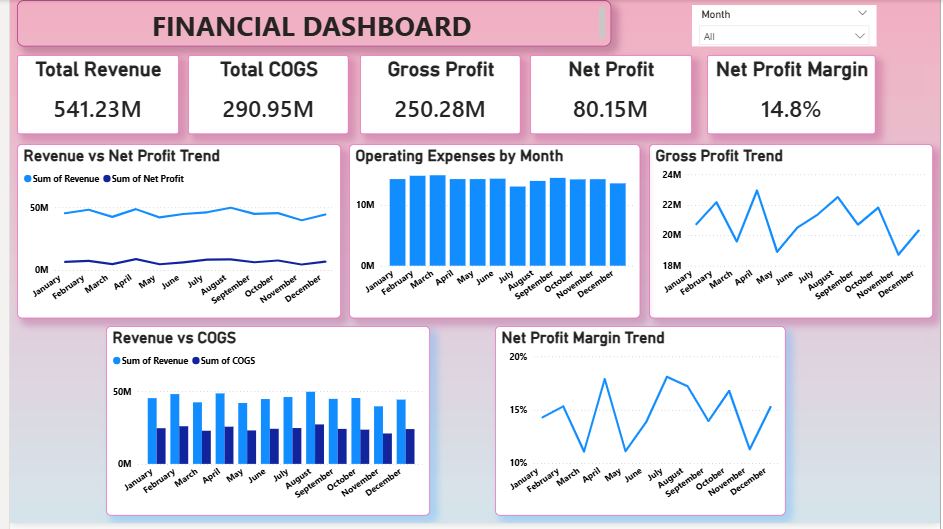

The page's visual inventory and layout, read from the dashboard file:
{"tool":"powerbi","page":{"name":"Page 1","canvas":[1280,720],"ordinal":0},"visuals":[{"type":"textbox","box":[9.9,0,817.8,63.8],"z":0},{"type":"cardVisual","title":"Total Revenue","fields":{"Data":["Sum(Financial Data.Revenue)"]},"box":[9.9,75.1,222.5,109.1],"z":1000},{"type":"cardVisual","title":"Total COGS","fields":{"Data":["Sum(Financial Data.COGS)"]},"box":[245.2,75.1,221.1,109.1],"z":2000},{"type":"cardVisual","title":"Gross Profit","fields":{"Data":["Sum(Financial Data.Gross Profit)"]},"box":[481.9,75.1,221.1,109.1],"z":3000},{"type":"cardVisual","title":"Net Profit","fields":{"Data":["Sum(Financial Data.Net Profit)"]},"box":[715.7,75.1,222.5,109.1],"z":4000},{"type":"cardVisual","title":"Net Profit Margin","fields":{"Data":["Financial Data.Net Profit Margin"]},"box":[959.5,75.1,232.4,109.1],"z":5000},{"type":"lineChart","title":"Revenue vs Net Profit Trend","fields":{"Y":["Sum(Financial Data.Revenue)","Sum(Financial Data.Net Profit)"],"Category":["Financial Data.Month.Variation.Date Hierarchy.Month"]},"box":[9.9,198.4,446.5,239.5],"z":6000},{"type":"lineChart","title":" Gross Profit Trend","fields":{"Y":["Sum(Financial Data.Gross Profit)"],"Category":["Financial Data.Month.Variation.Date Hierarchy.Month"]},"box":[880.2,198.4,391.2,239.5],"z":7000},{"type":"clusteredColumnChart","title":" Operating Expenses by Month","fields":{"Category":["Financial Data.Month.Variation.Date Hierarchy.Month"],"Y":["Sum(Financial Data.Operating Expenses)"]},"box":[466.3,198.4,401.1,239.5],"z":8000},{"type":"clusteredColumnChart","title":" Revenue  vs COGS ","fields":{"Y":["Sum(Financial Data.Revenue)","Sum(Financial Data.COGS)"],"Category":["Financial Data.Month.Variation.Date Hierarchy.Month"]},"box":[131.8,449.3,446.5,260.8],"z":9000},{"type":"lineChart","title":"Net Profit Margin Trend","fields":{"Category":["Financial Data.Month.Variation.Date Hierarchy.Month"],"Y":["Financial Data.Net Profit Margin"]},"box":[667.6,449.3,399.7,260.8],"z":10000},{"type":"slicer","fields":{"Values":["Financial Data.Month.Variation.Date Hierarchy.Month"]},"box":[939,6.7,253.6,57.1],"z":11000}]}

Visuals, with their boxes in screenshot pixels (x1, y1, x2, y2), scaled from the page's 1280x720 canvas onto the 943x529 screenshot:
textbox: select_region(7, 0, 610, 47)
"Total Revenue" cardVisual: select_region(7, 55, 171, 135)
"Total COGS" cardVisual: select_region(181, 55, 344, 135)
"Gross Profit" cardVisual: select_region(355, 55, 518, 135)
"Net Profit" cardVisual: select_region(527, 55, 691, 135)
"Net Profit Margin" cardVisual: select_region(707, 55, 878, 135)
"Revenue vs Net Profit Trend" lineChart: select_region(7, 146, 336, 322)
" Gross Profit Trend" lineChart: select_region(648, 146, 937, 322)
" Operating Expenses by Month" clusteredColumnChart: select_region(344, 146, 639, 322)
" Revenue  vs COGS " clusteredColumnChart: select_region(97, 330, 426, 522)
"Net Profit Margin Trend" lineChart: select_region(492, 330, 786, 522)
slicer - Financial Data.Month.Variation.Date Hierarchy.Month: select_region(692, 5, 879, 47)
